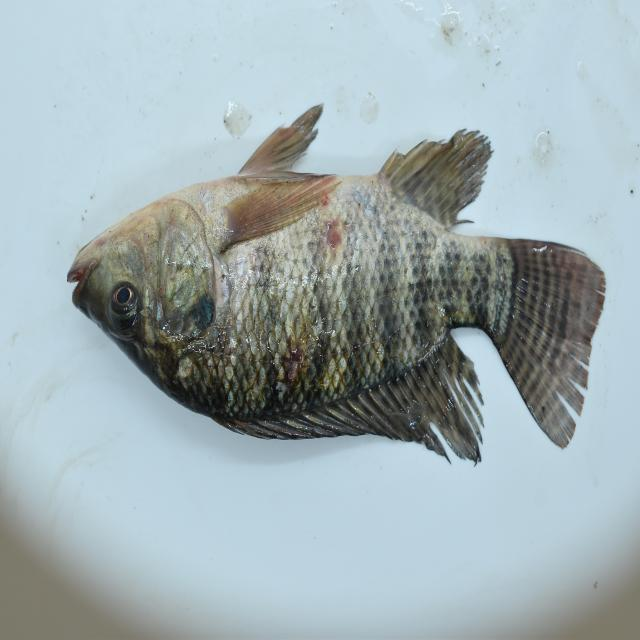Columnaris Disease: (57, 96, 612, 468)
